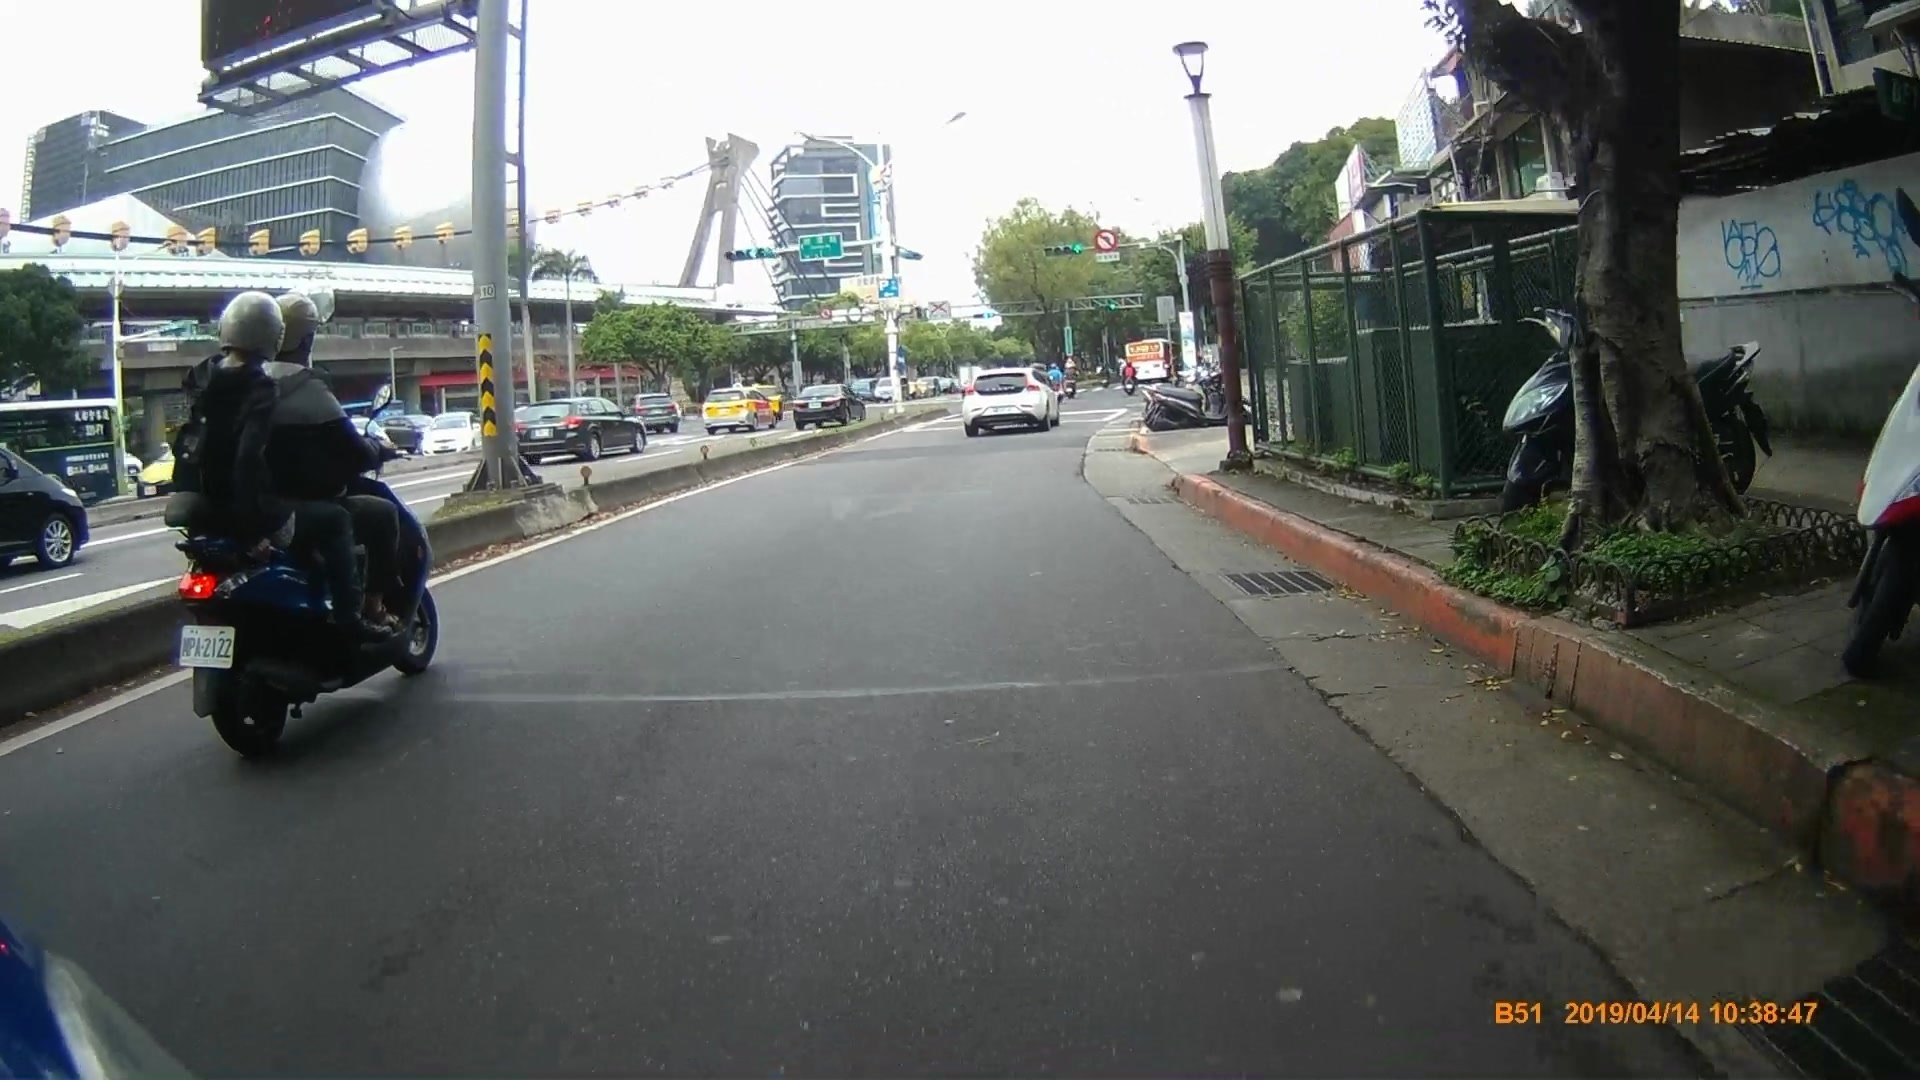License_plate: (178, 621, 241, 672)
